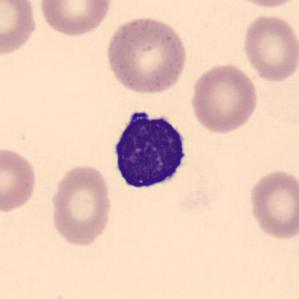Lymphocyte: (106, 104, 194, 196)
RBC: (102, 14, 190, 96), (47, 161, 114, 249), (188, 62, 260, 135), (240, 12, 298, 84), (246, 167, 298, 241), (36, 0, 114, 38), (0, 145, 39, 214), (0, 0, 39, 59), (227, 0, 299, 9)
